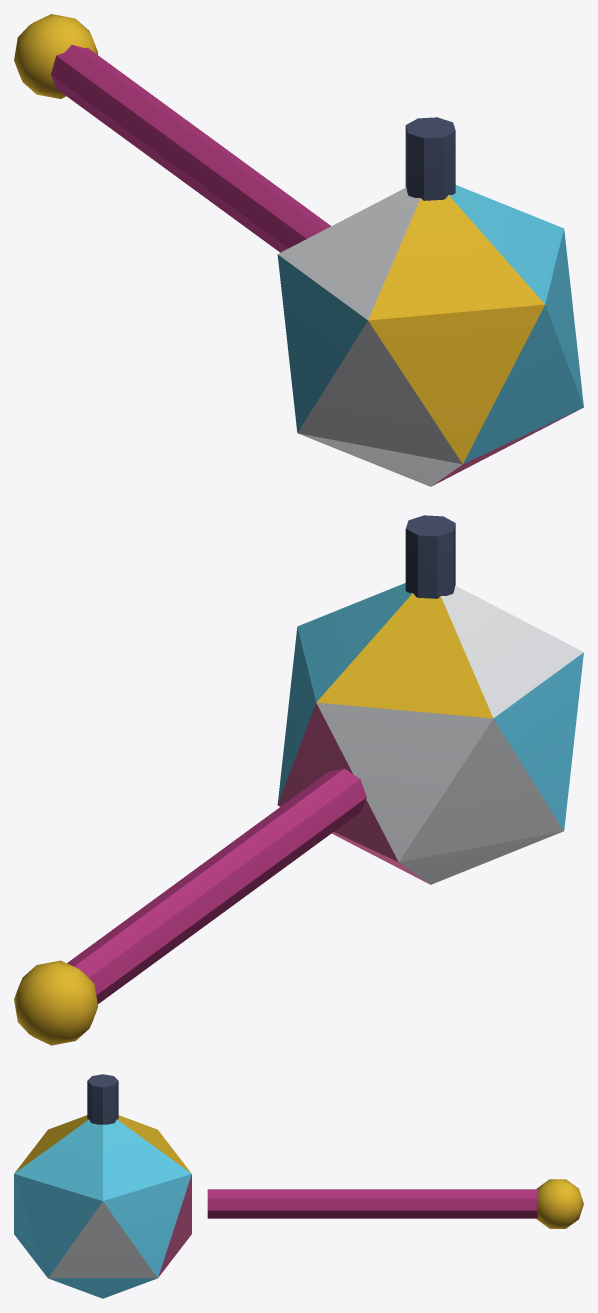
The model's file is w_g_disco.glb.
The picture shows the model from 3 angles, top to bottom: view 1: azimuth 30°, elevation 25°; view 2: azimuth 150°, elevation 25°; view 3: azimuth 270°, elevation 25°; orthographic projection. The views are drawn at different scales.
Visible parts, largest first — view 1: body; view 2: body; view 3: body.
Boxes of the visible parts, x1,y1,x2,y2 form: body: (14,14,583,486); body: (14,515,583,1045); body: (14,1074,583,1298).
Size of the model in its own units: 0.2147 by 0.276 by 0.6541.
